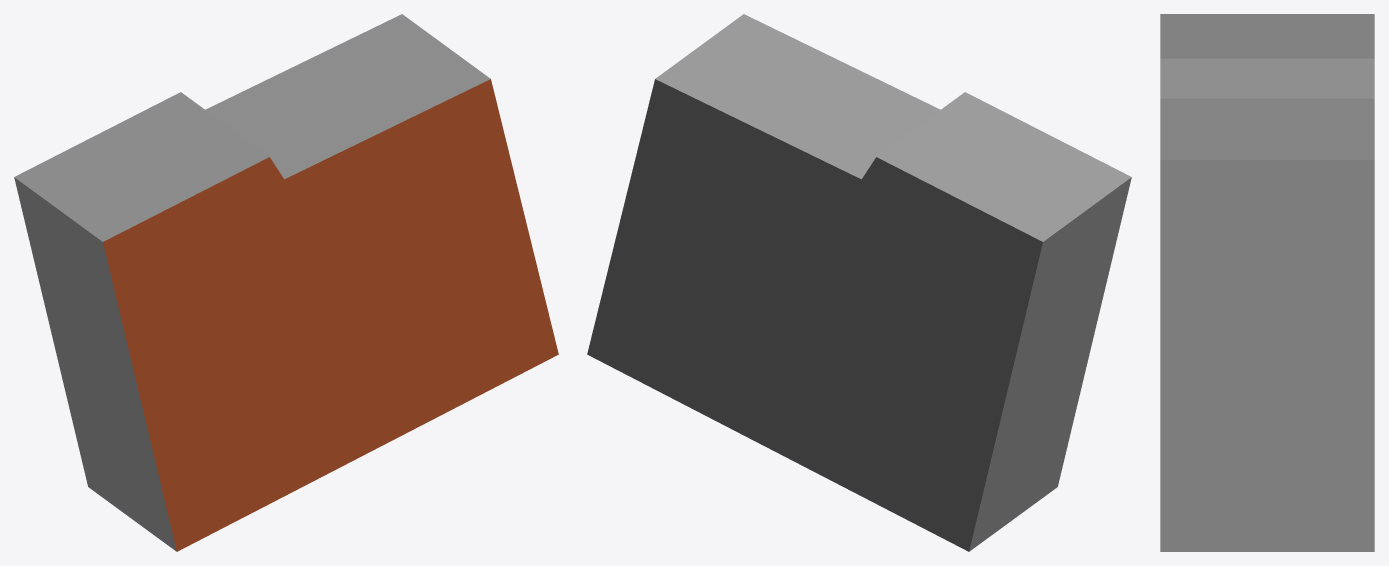
The model's file is construction_2119_assumed_A_Casa_h6m.obj.
3 renders of one model, left to right at view 1: azimuth 30°, elevation 25°; view 2: azimuth 150°, elevation 25°; view 3: azimuth 270°, elevation 25°, orthographic. The views are drawn at different scales.
Visible parts, largest first — view 1: construction_2119_assumed_A_Casa; view 2: construction_2119_assumed_A_Casa; view 3: construction_2119_assumed_A_Casa.
Boxes of the visible parts, box(x1,y1,x2,y2) form: construction_2119_assumed_A_Casa: box(14, 14, 558, 551); construction_2119_assumed_A_Casa: box(587, 14, 1131, 551); construction_2119_assumed_A_Casa: box(1160, 14, 1374, 551).
Size of the model in its own units: 17.79 by 14.78 by 6.
